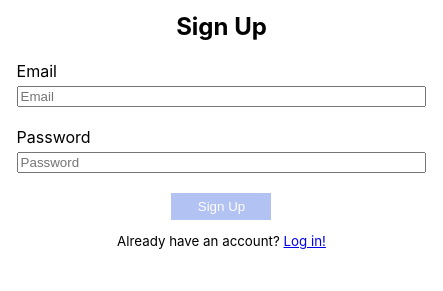
Test: signup not allowed with short password
Type "pa" into the password field labelled "Password".
click(222, 162); type("pa")  # box [17,152,426,173]
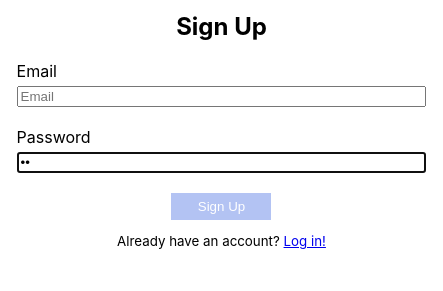
Type "mock@email.com" into the field labelled "Email".
click(222, 96); type("mock@email.com")  # box [17,86,426,107]
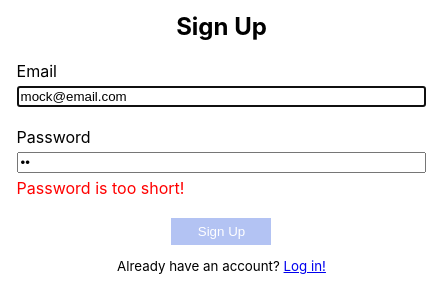
Expected: the button is disabled, [172,218,272,245]
Now the text "Password is too short!" is shown, box [17,178,184,198]
